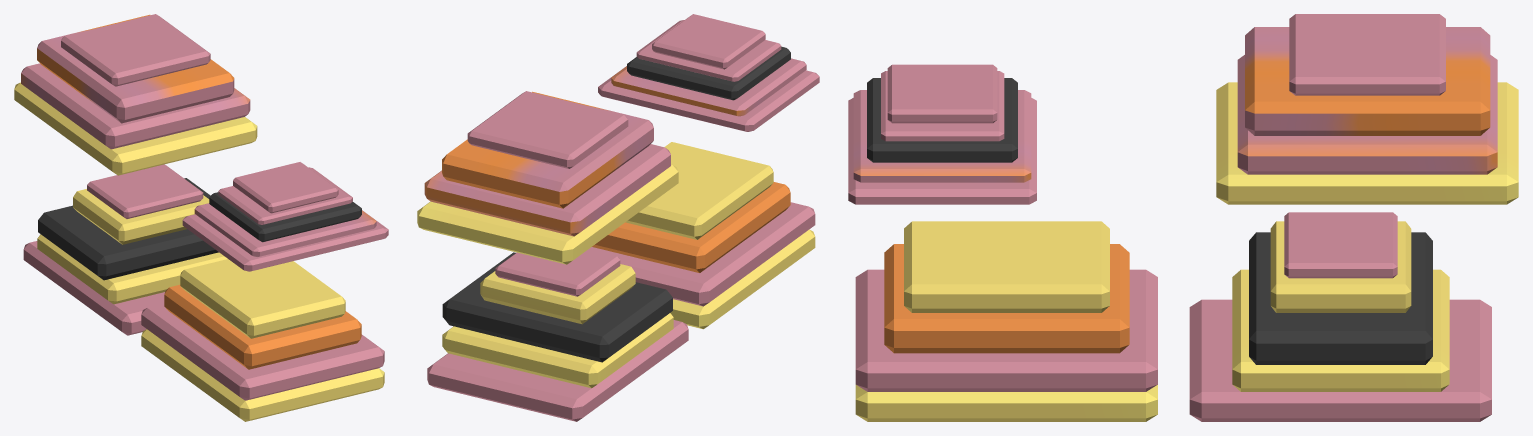
Rendered from Laundry_towels.fbx.
3 renders of one model, left to right at view 1: azimuth 30°, elevation 25°; view 2: azimuth 150°, elevation 25°; view 3: azimuth 270°, elevation 25°, orthographic. The views are drawn at different scales.
Visible parts, largest first — view 1: Laundry_towels; view 2: Laundry_towels; view 3: Laundry_towels.
Boxes of the visible parts, x1,y1,x2,y2 form: Laundry_towels: (14, 14, 388, 421); Laundry_towels: (417, 14, 819, 421); Laundry_towels: (848, 14, 1518, 421).
Size of the model in its own units: 55.52 by 79.96 by 147.
